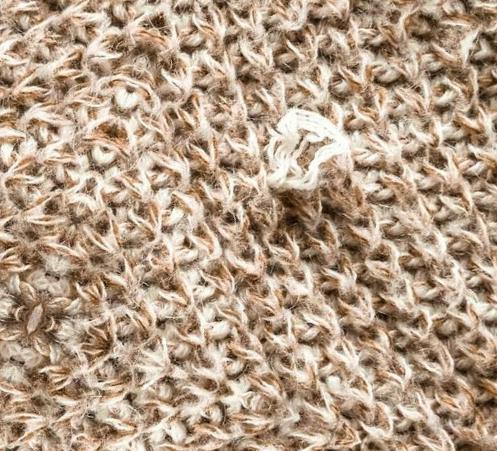snag: (262, 99, 356, 204)
